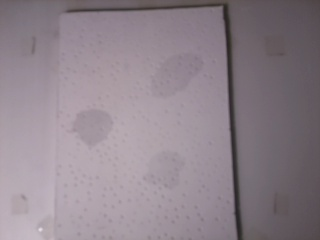Water_detected: (149, 150, 180, 188), (153, 60, 191, 90), (79, 120, 113, 142)
